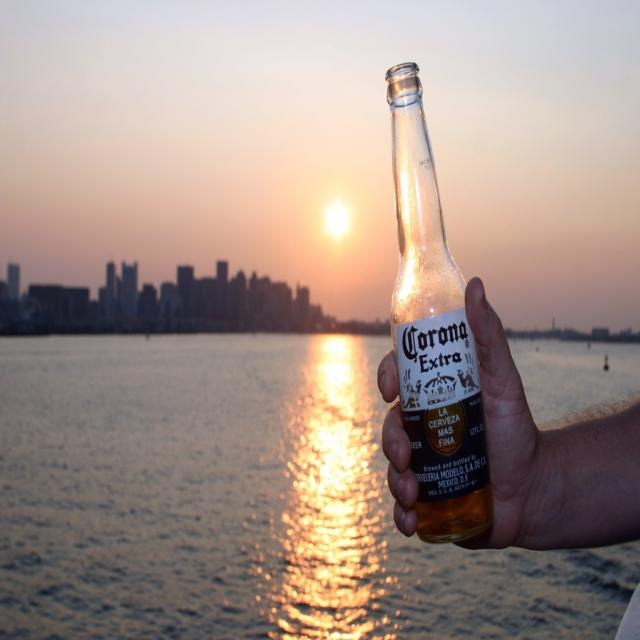corona: (397, 308, 492, 505)
